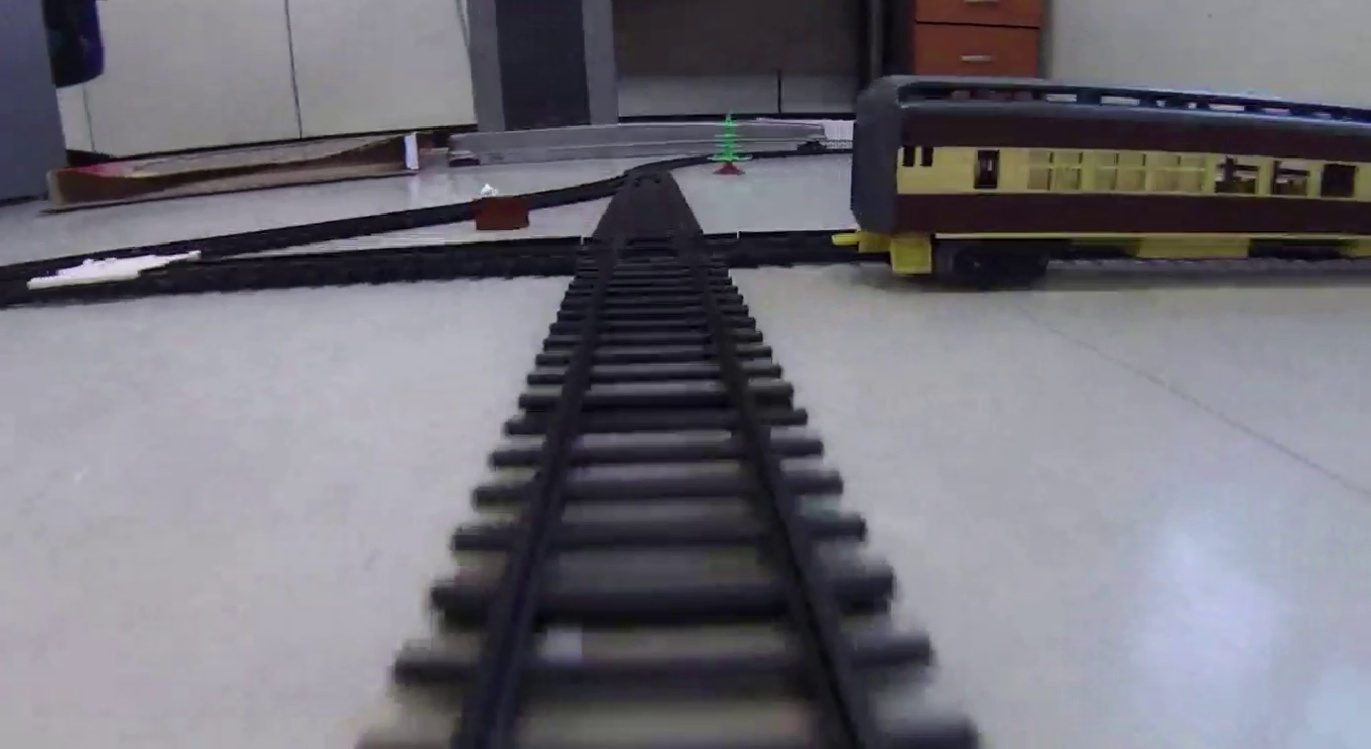box: (473, 198, 531, 229)
tree: (707, 111, 753, 178)
